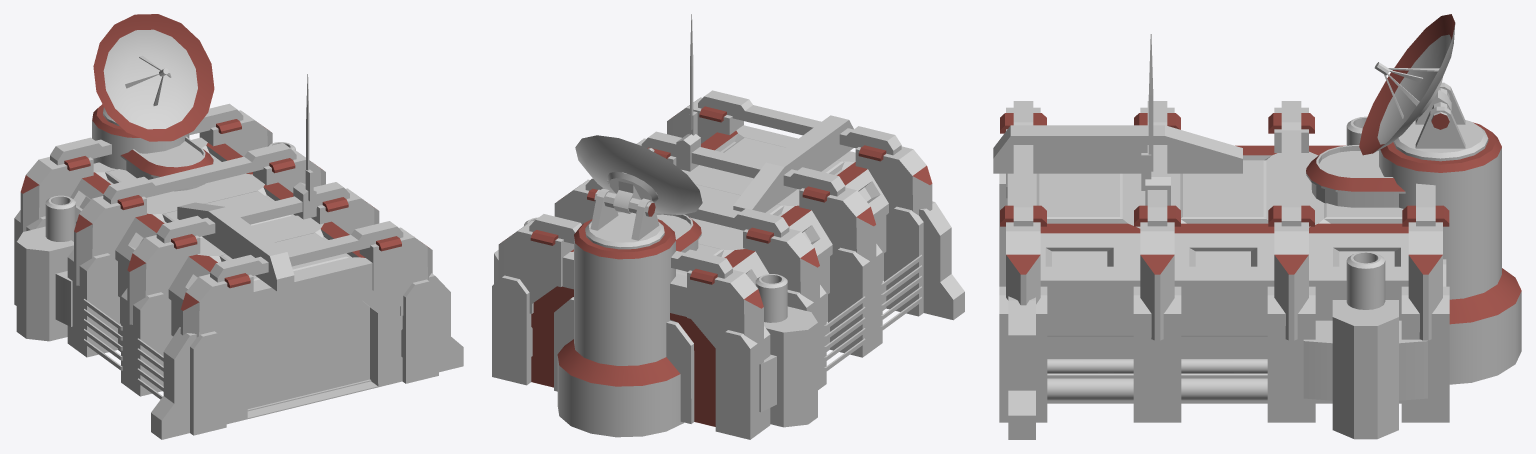
File: Hangar.fbx
The picture shows the model from 3 angles, left to right: view 1: azimuth 30°, elevation 25°; view 2: azimuth 150°, elevation 25°; view 3: azimuth 270°, elevation 25°; orthographic projection. The views are drawn at different scales.
Visible parts, largest first — view 1: Hangar, Dish, HangarDoor; view 2: Hangar, Dish, DishBase; view 3: Hangar, Dish, DishBase.
Boxes of the visible parts, x1,y1,x2,y2 form: Hangar: [14, 74, 463, 439]; Dish: [93, 14, 214, 141]; HangarDoor: [247, 301, 369, 408]; Hangar: [492, 14, 964, 439]; Dish: [575, 135, 702, 214]; DishBase: [585, 188, 664, 249]; Hangar: [993, 34, 1521, 439]; Dish: [1359, 14, 1455, 155]; DishBase: [1393, 82, 1488, 161].
Bounding box in the file's own units: 6.47 × 5.69 × 7.8.
